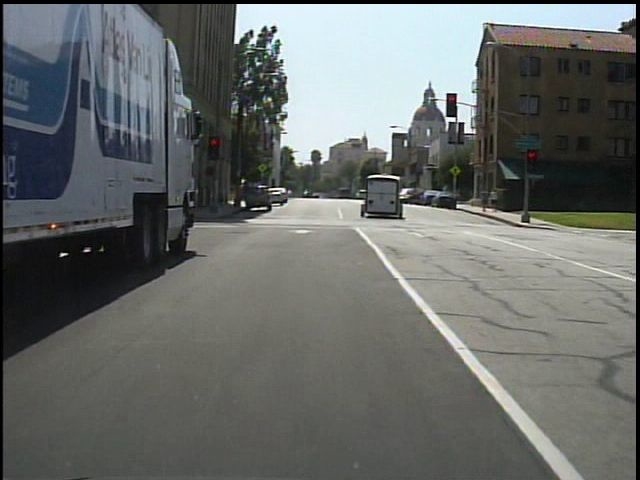person: (488, 187, 502, 214), (478, 187, 490, 215)
